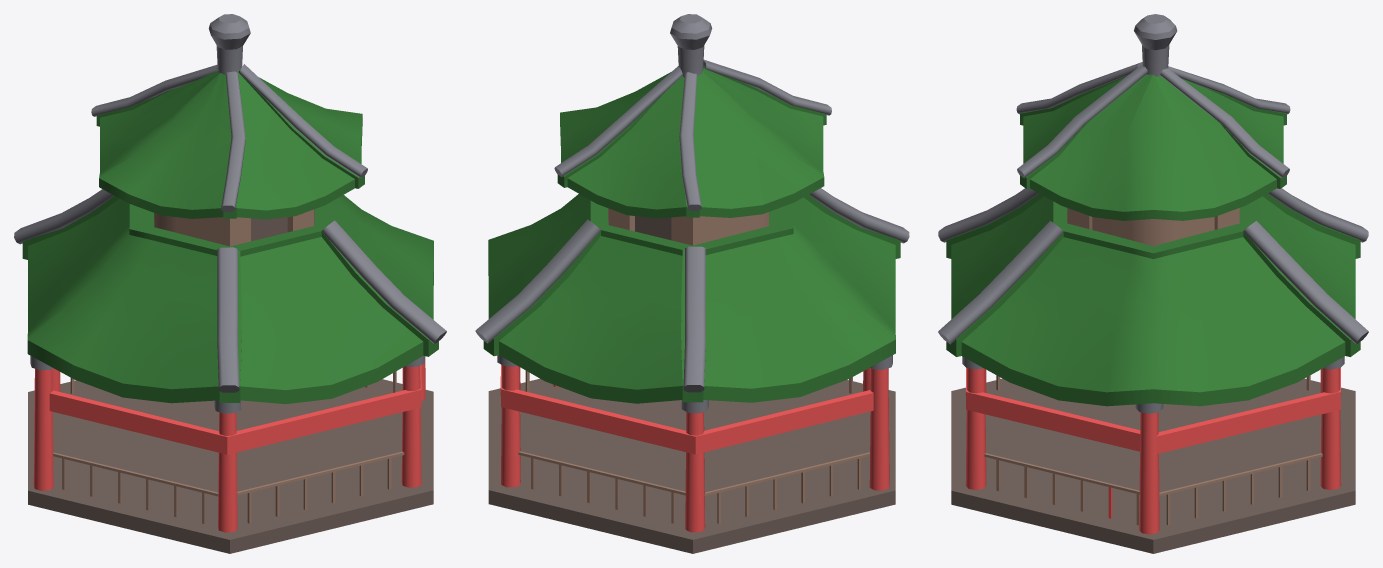
File: c8c63564-31e0-4f19-9e82-1c5bec4ac870.glb
3 renders of one model, left to right at view 1: azimuth 30°, elevation 25°; view 2: azimuth 150°, elevation 25°; view 3: azimuth 270°, elevation 25°, orthographic.
Parts seen in each view (by area): view 1: SM_Pagoda:SM_Pagoda; view 2: SM_Pagoda:SM_Pagoda; view 3: SM_Pagoda:SM_Pagoda.
Boxes of the visible parts, bbox=[...] form: SM_Pagoda:SM_Pagoda: bbox=[14, 14, 446, 553]; SM_Pagoda:SM_Pagoda: bbox=[475, 14, 909, 553]; SM_Pagoda:SM_Pagoda: bbox=[938, 14, 1368, 553].
Size of the model in its own units: 15.96 by 16.34 by 14.63.
